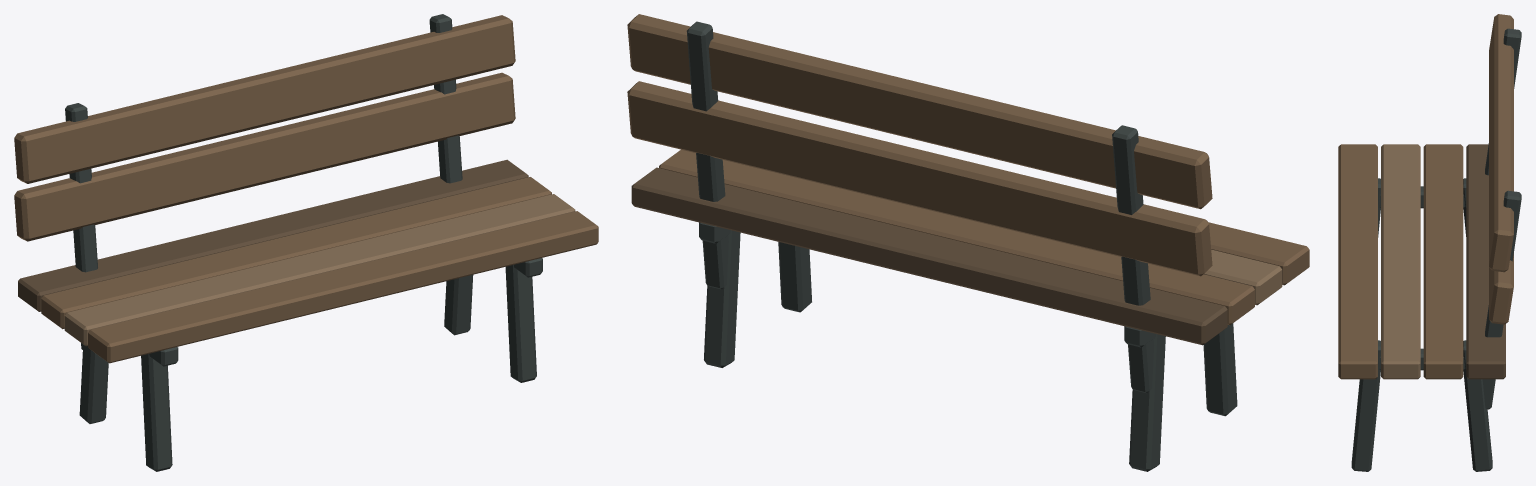
The model's file is Bench01.fbx.
3 renders of one model, left to right at view 1: azimuth 30°, elevation 25°; view 2: azimuth 150°, elevation 25°; view 3: azimuth 270°, elevation 25°, orthographic. The views are drawn at different scales.
Visible parts, largest first — view 1: Back_Plank.001, Back_Plank, Seat_Plank, Seat_Plank.002, Seat_Plank.001, Seat_Plank.003, Leg, Leg.002, Leg.001, Back_Post, Back_Post.001, Leg.003; view 2: Back_Plank, Back_Plank.001, Seat_Plank.003, Seat_Plank.002, Back_Post, Back_Post.001, Leg.001, Leg.003, Seat_Plank, Leg, Seat_Plank.001, Leg.002; view 3: Seat_Plank.002, Seat_Plank.001, Seat_Plank, Seat_Plank.003, Back_Plank.001, Leg.002, Leg.003, Back_Plank, Back_Post.001, Back_Post.
Boxes of the visible parts, <box> form: Back_Plank.001: <box>14,15,515,183</box>; Back_Plank: <box>14,72,515,241</box>; Seat_Plank: <box>88,211,598,363</box>; Seat_Plank.002: <box>41,177,551,329</box>; Seat_Plank.001: <box>64,194,575,346</box>; Seat_Plank.003: <box>18,159,528,311</box>; Leg: <box>141,354,172,471</box>; Leg.002: <box>505,265,536,382</box>; Leg.001: <box>79,344,108,423</box>; Back_Post: <box>65,103,97,349</box>; Back_Post.001: <box>429,14,462,183</box>; Leg.003: <box>444,275,473,335</box>; Back_Plank: <box>627,81,1212,276</box>; Back_Plank.001: <box>627,14,1212,209</box>; Seat_Plank.003: <box>631,167,1227,345</box>; Seat_Plank.002: <box>659,149,1254,325</box>; Back_Post: <box>1112,125,1154,392</box>; Back_Post.001: <box>686,21,728,289</box>; Leg.001: <box>1129,334,1165,471</box>; Leg.003: <box>704,230,740,367</box>; Seat_Plank: <box>1208,222,1309,285</box>; Leg: <box>1203,323,1237,416</box>; Seat_Plank.001: <box>1204,249,1282,305</box>; Leg.002: <box>778,242,811,312</box>; Seat_Plank.002: <box>1423,144,1463,379</box>; Seat_Plank.001: <box>1381,144,1420,379</box>; Seat_Plank: <box>1338,144,1377,379</box>; Seat_Plank.003: <box>1466,144,1505,379</box>; Back_Plank.001: <box>1489,14,1513,272</box>; Leg.002: <box>1351,340,1380,471</box>; Leg.003: <box>1463,340,1492,471</box>; Back_Plank: <box>1489,253,1513,324</box>; Back_Post.001: <box>1482,190,1521,409</box>; Back_Post: <box>1485,28,1521,175</box>.
Size of the model in its own units: 170 by 99.95 by 60.12.
